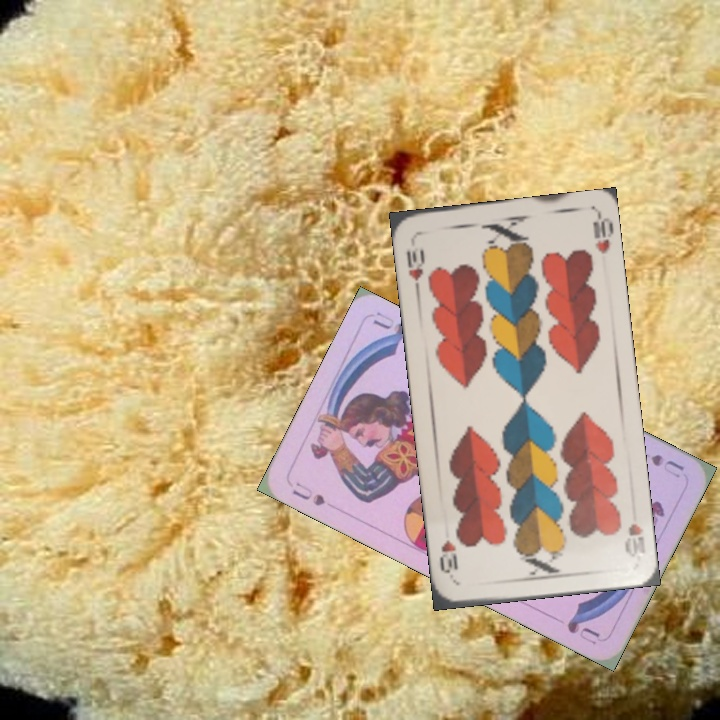H10: (402, 245, 428, 294), (620, 520, 649, 560)
SU: (288, 477, 328, 509), (646, 450, 687, 481)
